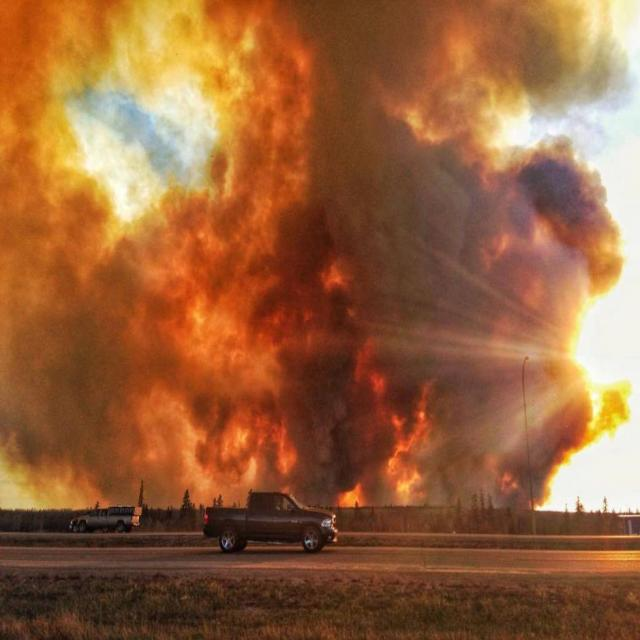Fire: (24, 95, 182, 276), (186, 19, 324, 183), (171, 199, 283, 396), (75, 0, 216, 98), (195, 392, 268, 504), (374, 422, 434, 520), (342, 356, 421, 424)
Smoke: (0, 0, 626, 501)
